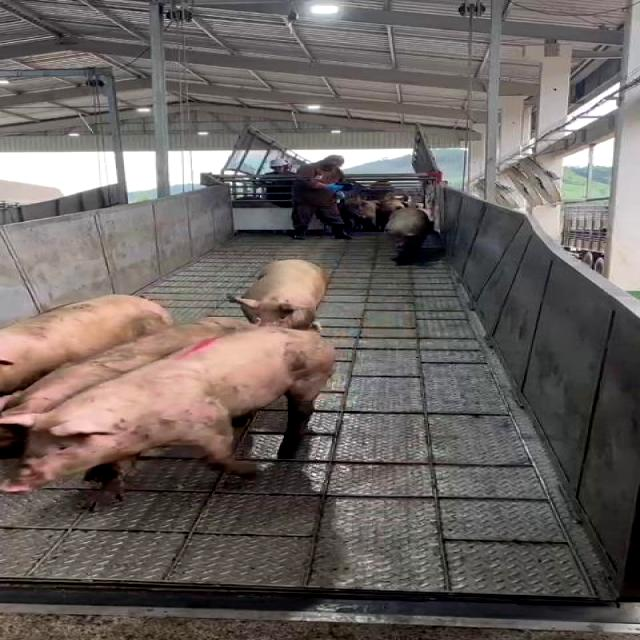pig: (0, 326, 335, 492), (0, 318, 257, 416), (0, 295, 172, 394), (229, 259, 328, 329), (385, 208, 433, 257)
